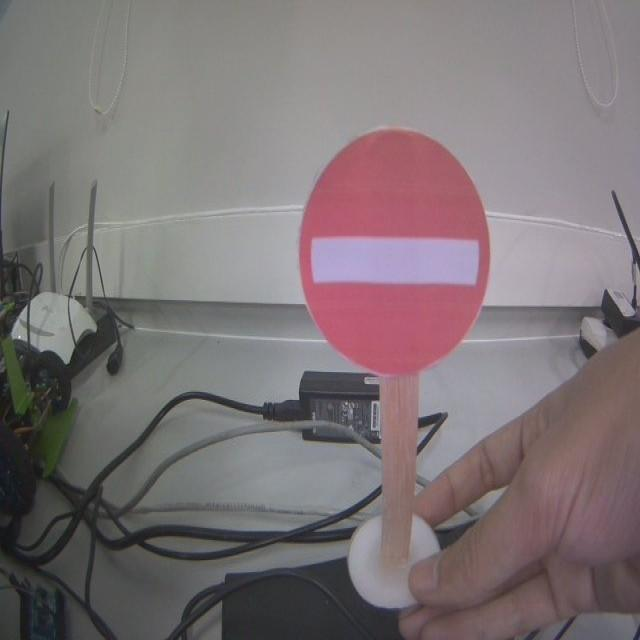Dilarang Masuk: (299, 132, 483, 369)
